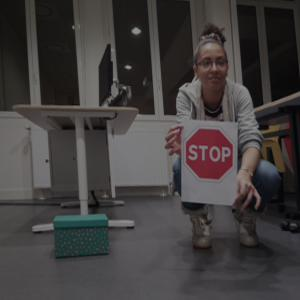stop: (185, 126, 235, 181)
